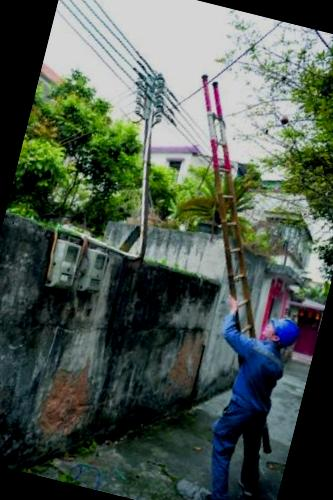person: (161, 296, 312, 500)
